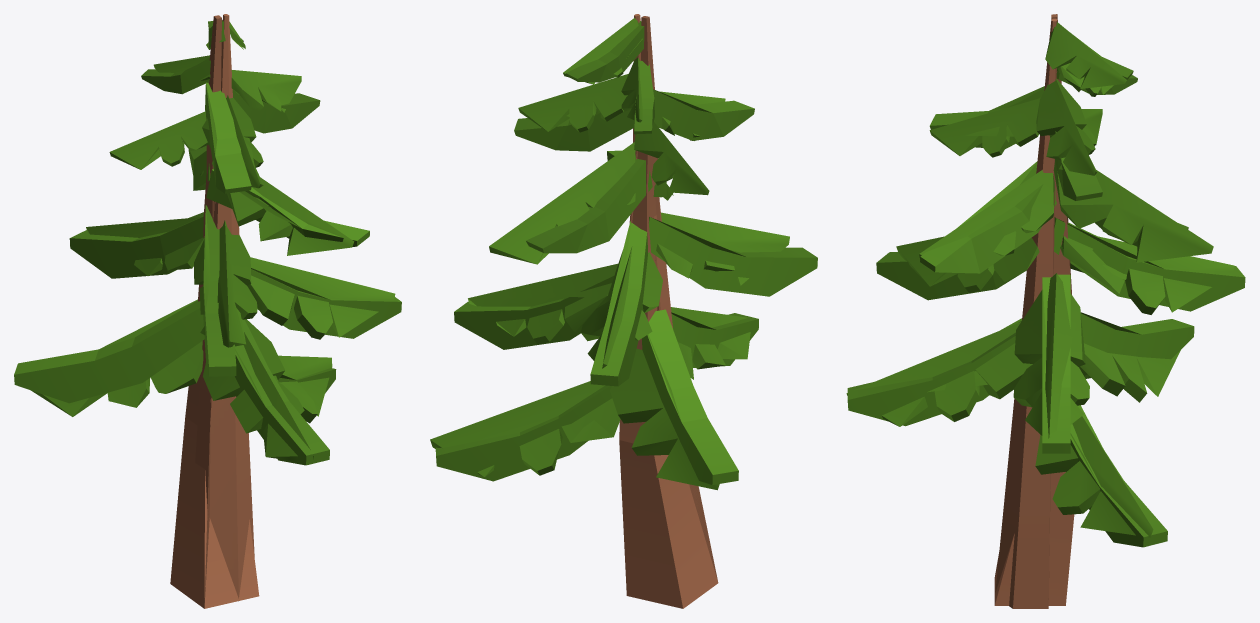
Rendered from Tree 1.fbx.
3 views of the same model, side by side, from view 1: azimuth 30°, elevation 25°; view 2: azimuth 150°, elevation 25°; view 3: azimuth 270°, elevation 25° (orthographic). The views are drawn at different scales.
Parts seen in each view (by area): view 1: Tree_LOD_1, Tree_LOD_2, Tree_LOD_3; view 2: Tree_LOD_2, Tree_LOD_1, Tree_LOD_3; view 3: Tree_LOD_1, Tree_LOD_2, Tree_LOD_3.
Boxes of the visible parts, x1,y1,x2,y2 form: Tree_LOD_1: (31,14,395,601); Tree_LOD_2: (14,15,401,608); Tree_LOD_3: (100,57,329,602); Tree_LOD_2: (435,16,817,608); Tree_LOD_1: (430,14,789,490); Tree_LOD_3: (606,63,745,580); Tree_LOD_1: (846,18,1234,608); Tree_LOD_2: (847,14,1245,605); Tree_LOD_3: (957,86,1163,575).
Size of the model in its own units: 3.74 by 3.82 by 6.17.
Materials: 1 (1 with a texture image).
